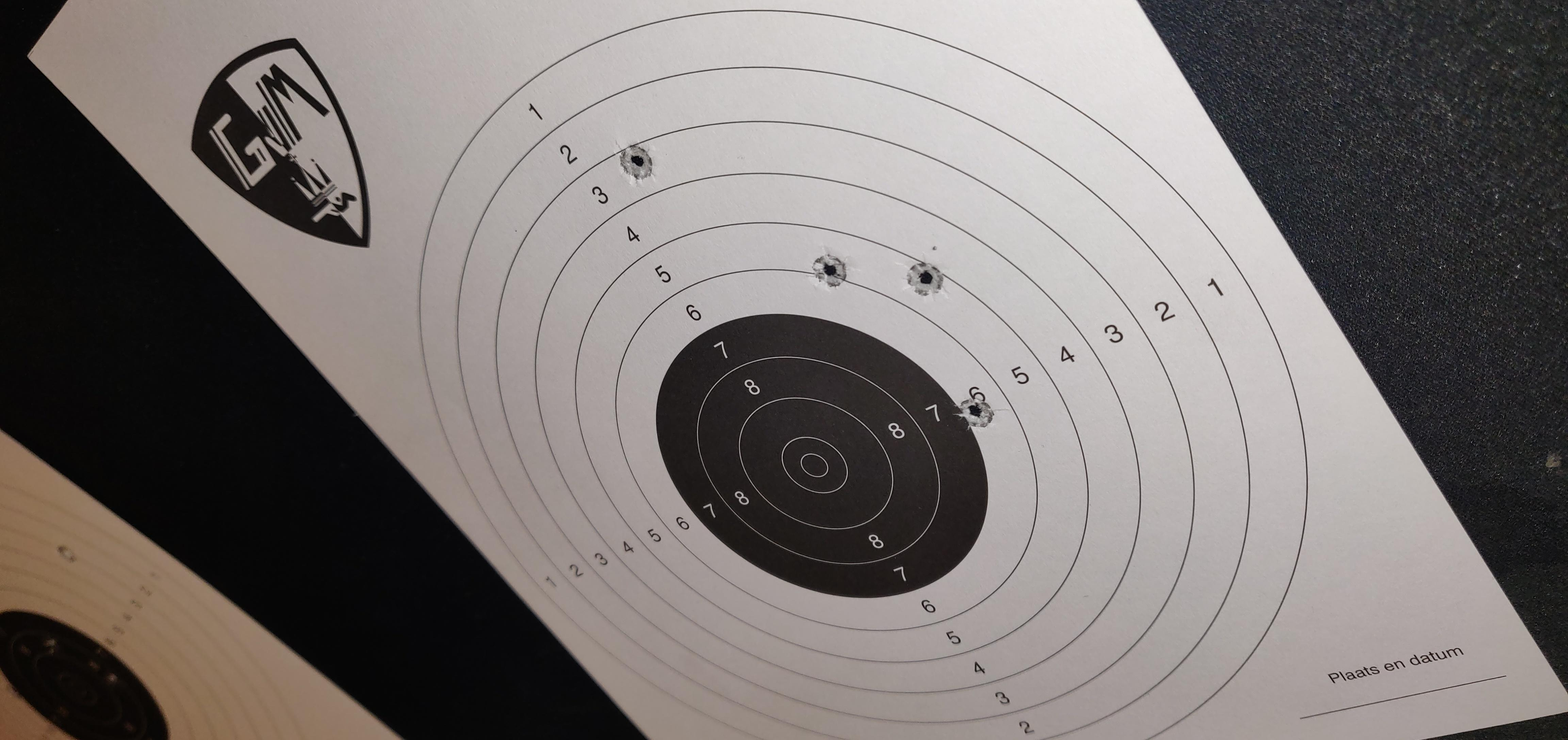hole: (563, 309, 618, 343), (913, 557, 954, 600), (623, 443, 665, 480), (718, 452, 757, 489)
